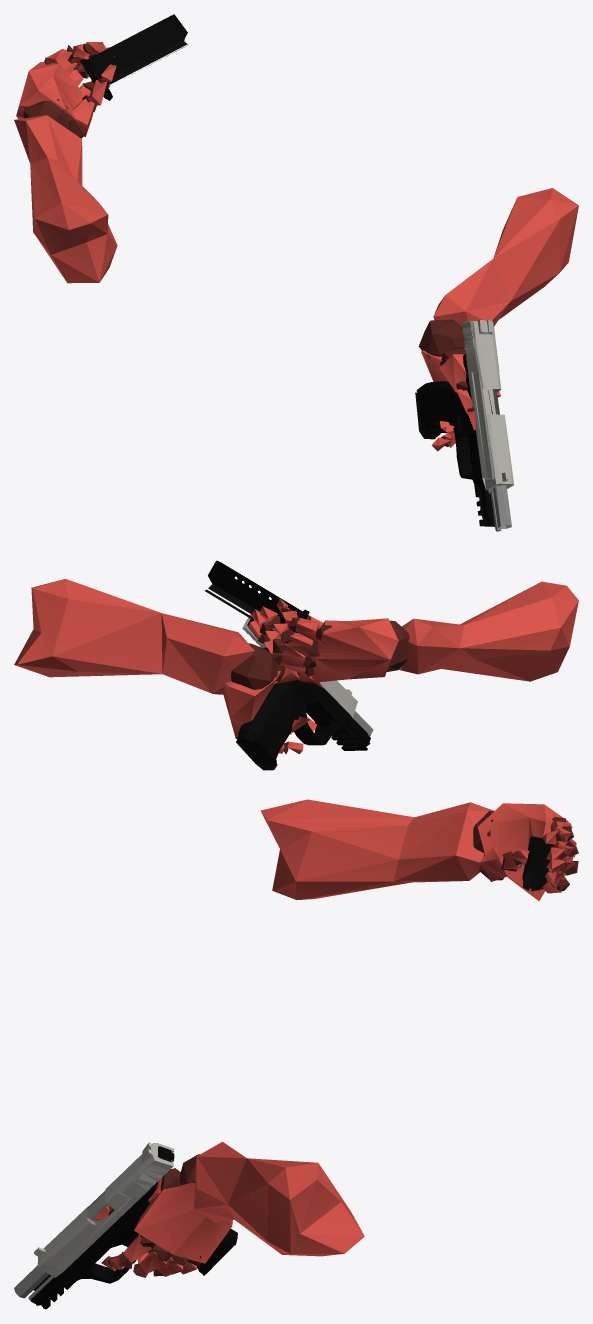
Rendered from M&P9reloadNormal1lowP_000122.obj.
3 views of the same model, one above another, from view 1: azimuth 30°, elevation 25°; view 2: azimuth 150°, elevation 25°; view 3: azimuth 270°, elevation 25° (orthographic). The views are drawn at different scales.
Parts seen in each view (by area): view 1: Beta_Surface.001_Beta_Surface.002, slide_平面.002, triger_平面.001, magazine.002_平面.005, Beta_Joints.001_Beta_Joints.002; view 2: Beta_Surface.001_Beta_Surface.002, triger_平面.001, Beta_Joints.001_Beta_Joints.002, magazine.002_平面.005, slide_平面.002; view 3: Beta_Surface.001_Beta_Surface.002, slide_平面.002, triger_平面.001, Beta_Joints.001_Beta_Joints.002, magazine.002_平面.005.
Part boxes in pixels (x1,y1,x2,y2): Beta_Surface.001_Beta_Surface.002: (14,42,578,451); slide_平面.002: (461,320,514,493); triger_平面.001: (416,354,511,531); magazine.002_平面.005: (79,14,188,100); Beta_Joints.001_Beta_Joints.002: (23,43,474,446); Beta_Surface.001_Beta_Surface.002: (14,579,578,754); triger_平面.001: (236,647,373,765); Beta_Joints.001_Beta_Joints.002: (231,607,409,754); magazine.002_平面.005: (204,560,309,633); slide_平面.002: (242,614,357,717); Beta_Surface.001_Beta_Surface.002: (93,799,576,1276); slide_平面.002: (34,1142,174,1277); triger_平面.001: (14,1182,237,1309); Beta_Joints.001_Beta_Joints.002: (108,810,578,1277); magazine.002_平面.005: (522,836,553,891).
Size of the model in its own units: 113 by 75.76 by 96.5.
